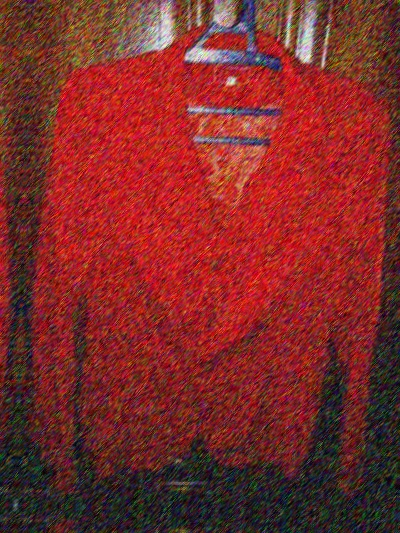Blazer: (30, 29, 400, 505), (0, 18, 14, 494), (16, 517, 391, 533), (390, 528, 400, 533), (0, 506, 1, 533)
